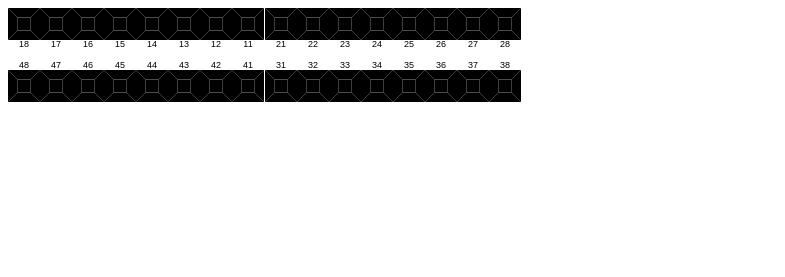
Test: BipOdontogram — interactividad › el panel muestra el número de diente
Click the button "16" at (88, 28), box [72, 8, 104, 49]
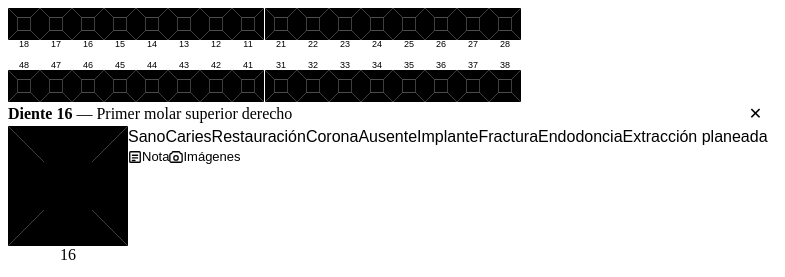
Expected: the element with test id "tooth-detail-panel" shows "Diente 16", [8, 105, 76, 122]
